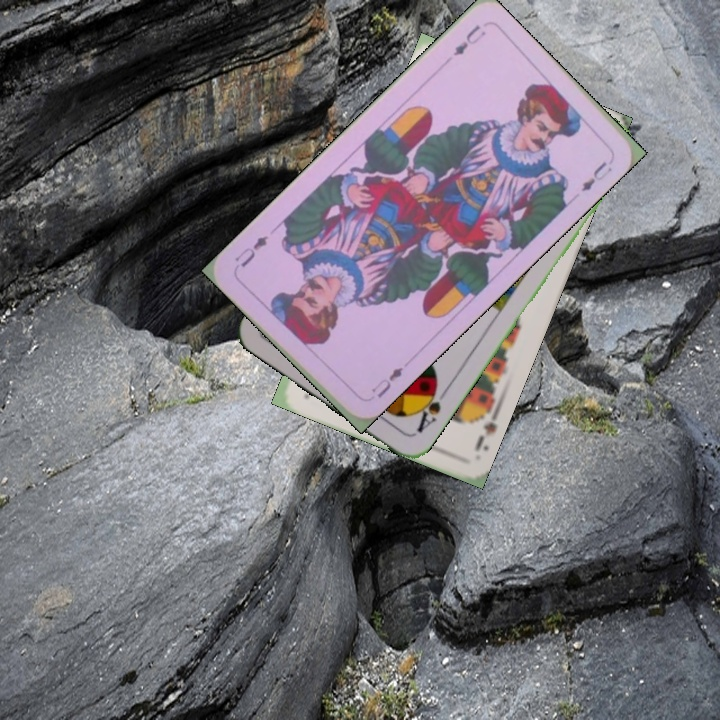EU: (363, 363, 406, 404), (449, 20, 489, 59)
S9: (470, 401, 504, 454)
SA: (410, 379, 451, 436)
